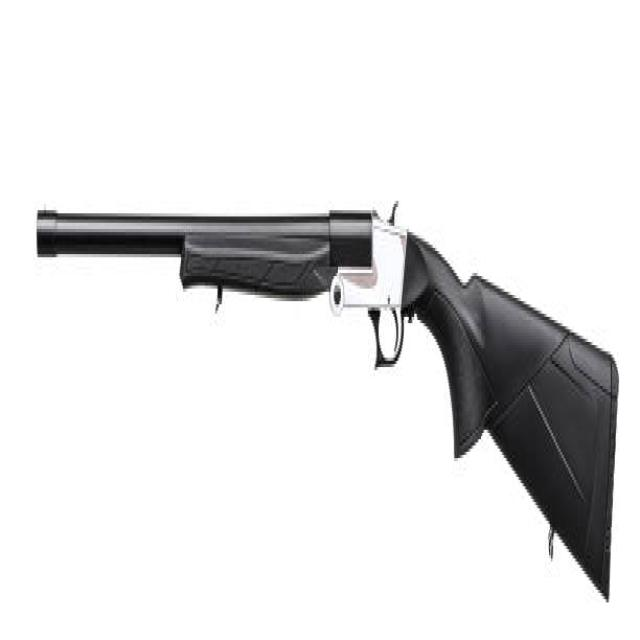rifle: (36, 195, 619, 607)
